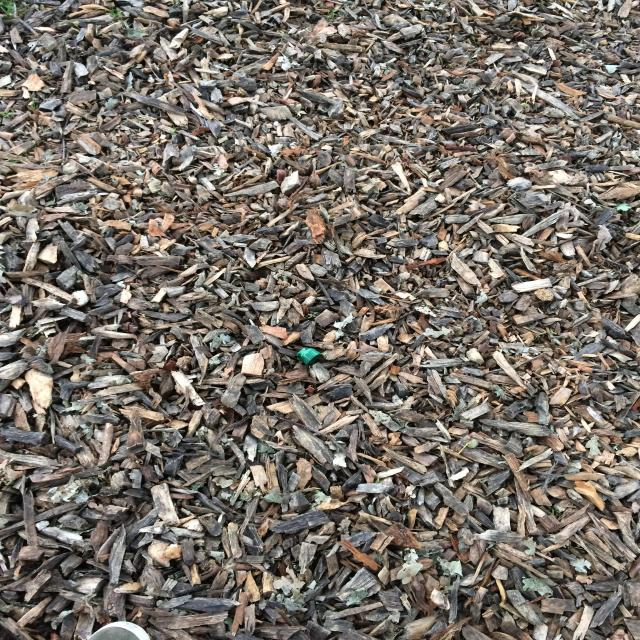Plastic bottle cap: (297, 347, 320, 364)
